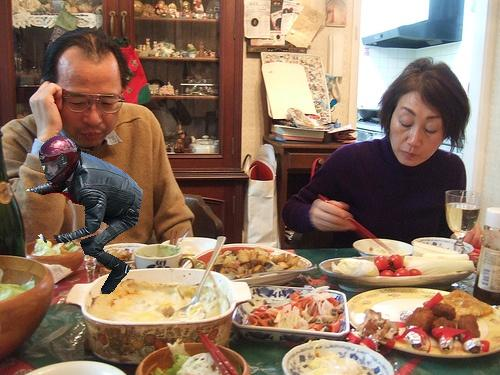tampered: (27, 136, 143, 294)
